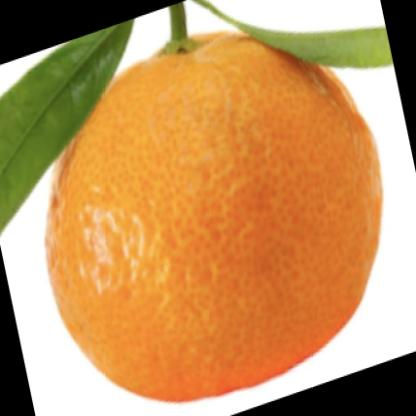fresh: (48, 28, 382, 401)
